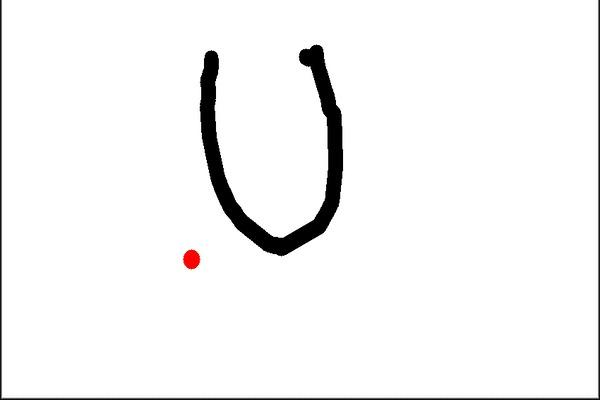U: (193, 37, 364, 257)
